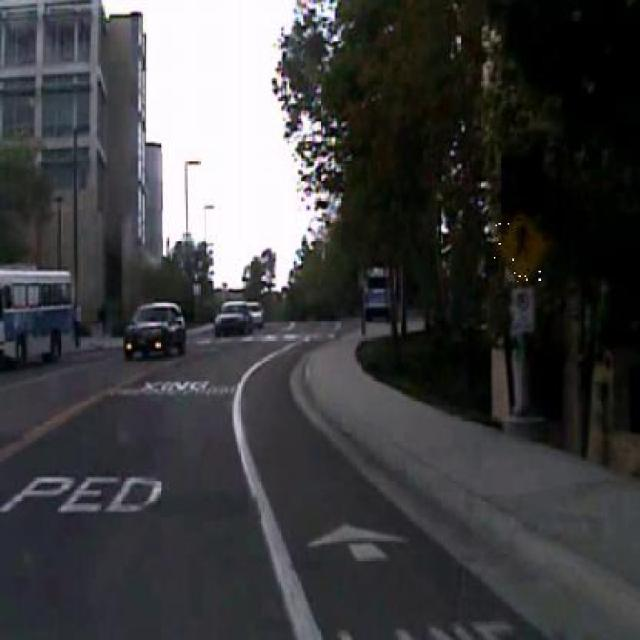pedestrianCrossing: (494, 208, 547, 284)
